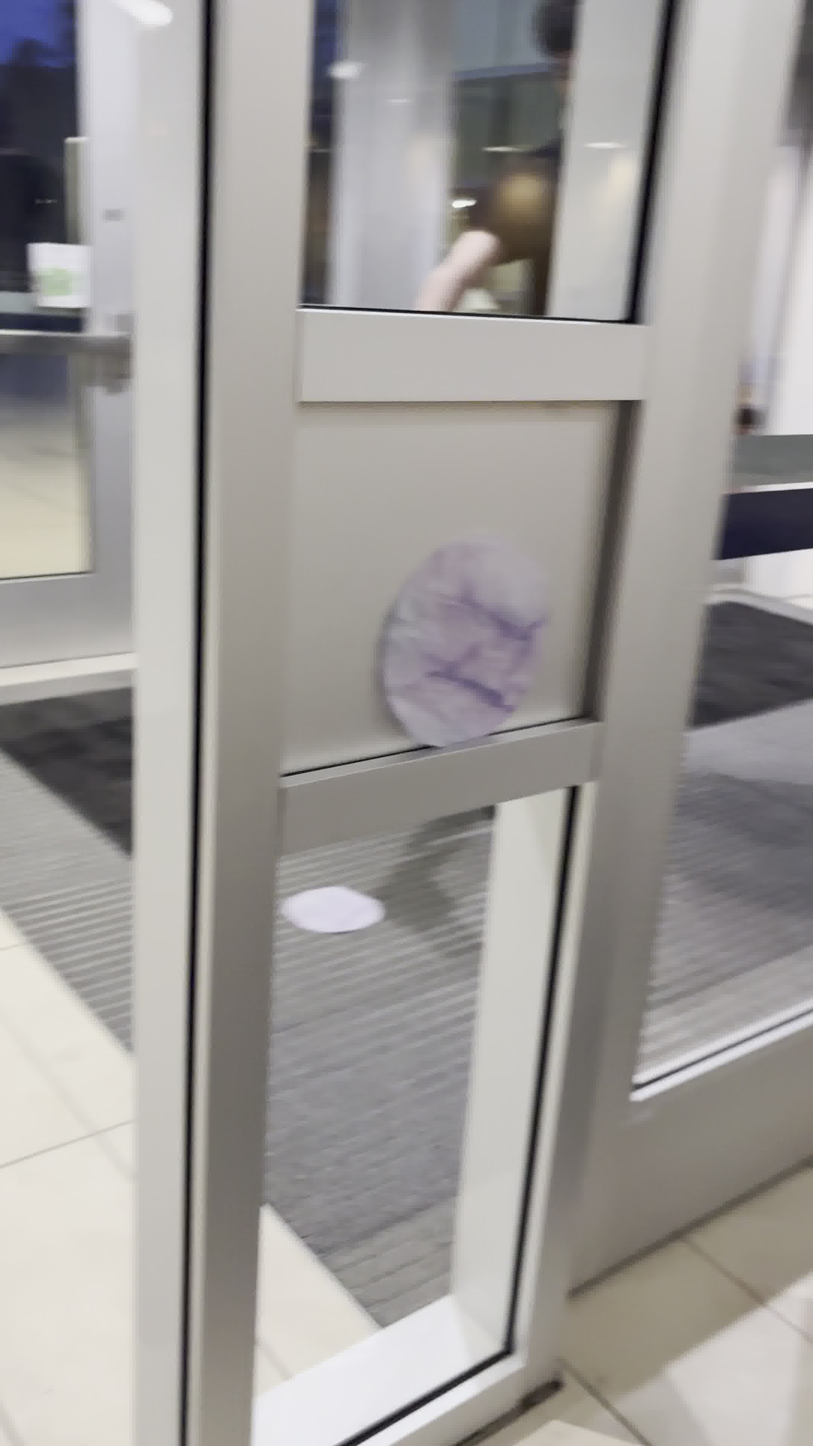Target: (379, 535, 553, 749)
